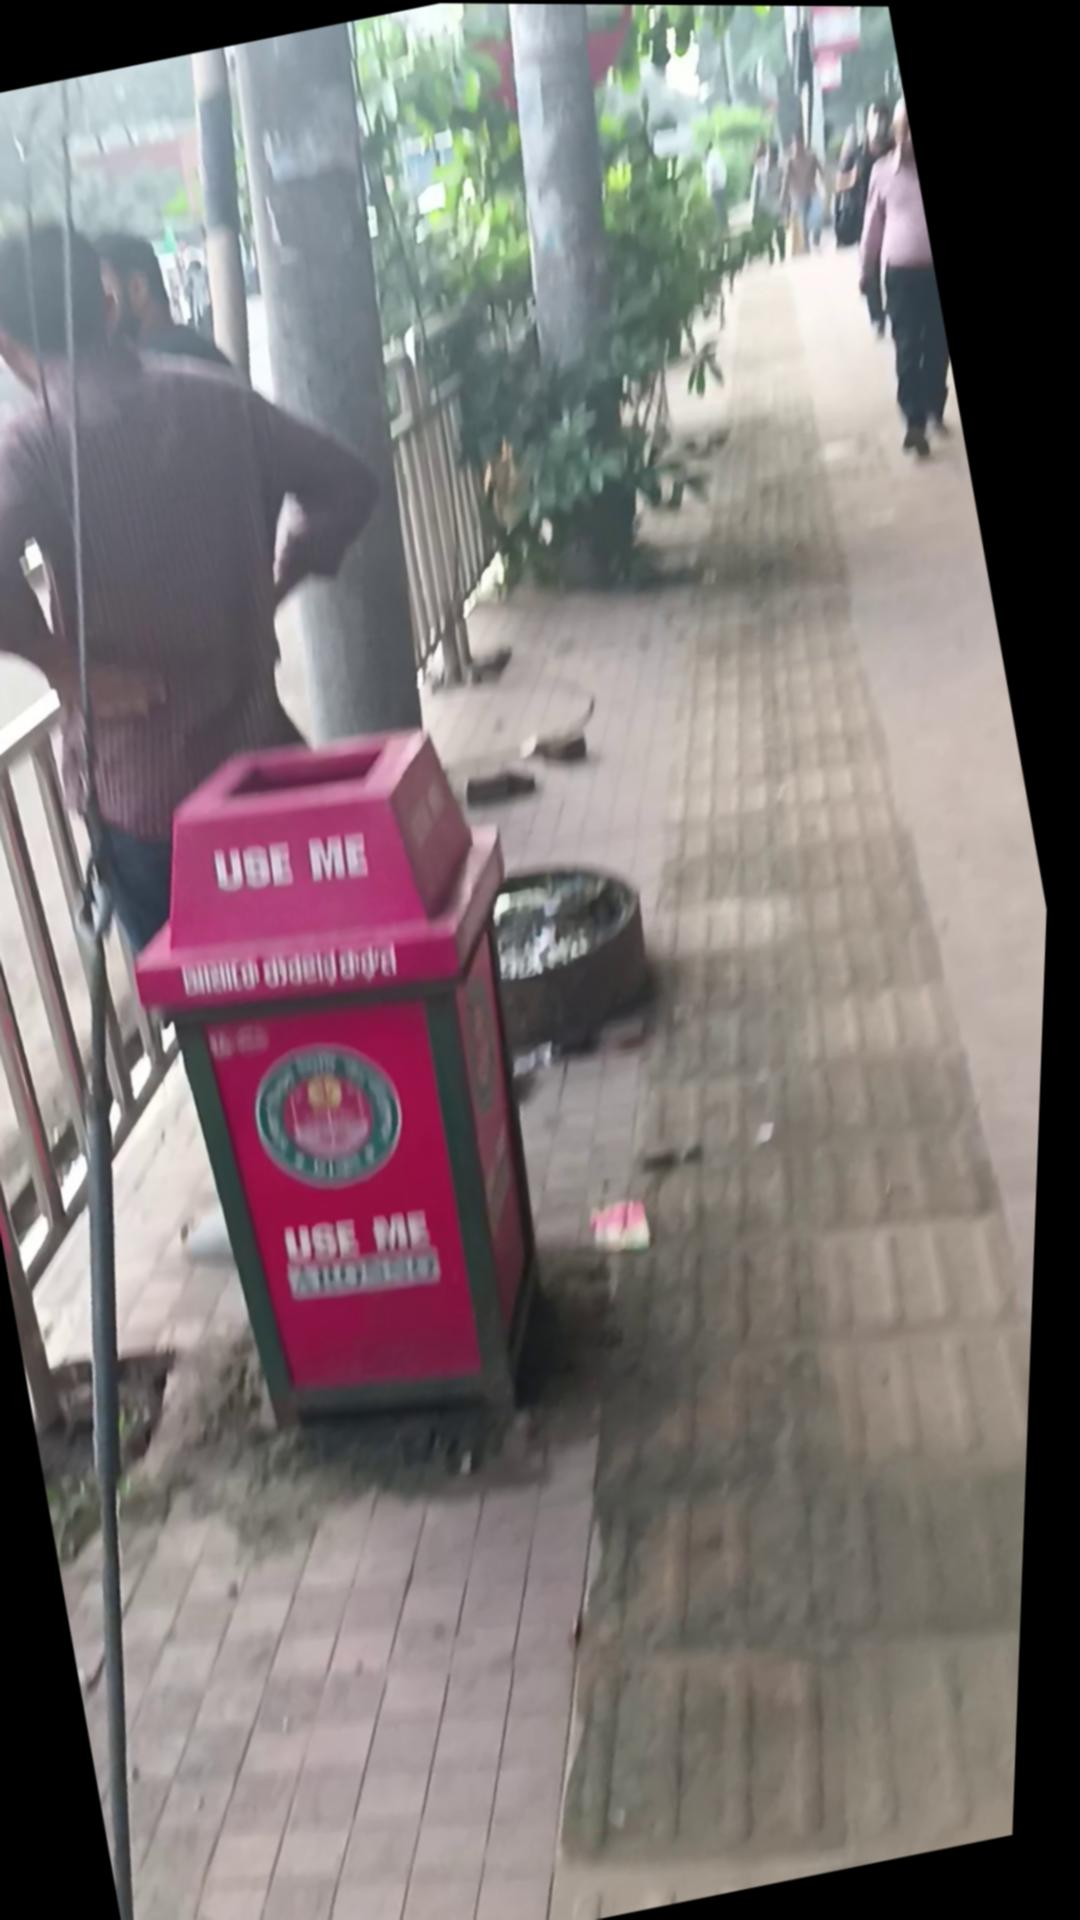Car: (0, 256, 62, 531)
Garbage: (80, 695, 634, 1489)
Muddy road: (0, 160, 480, 986), (818, 92, 978, 463), (86, 210, 243, 394)
Obstacle: (153, 20, 500, 757), (433, 3, 709, 599)
Potted-plant: (0, 236, 1073, 1920)
